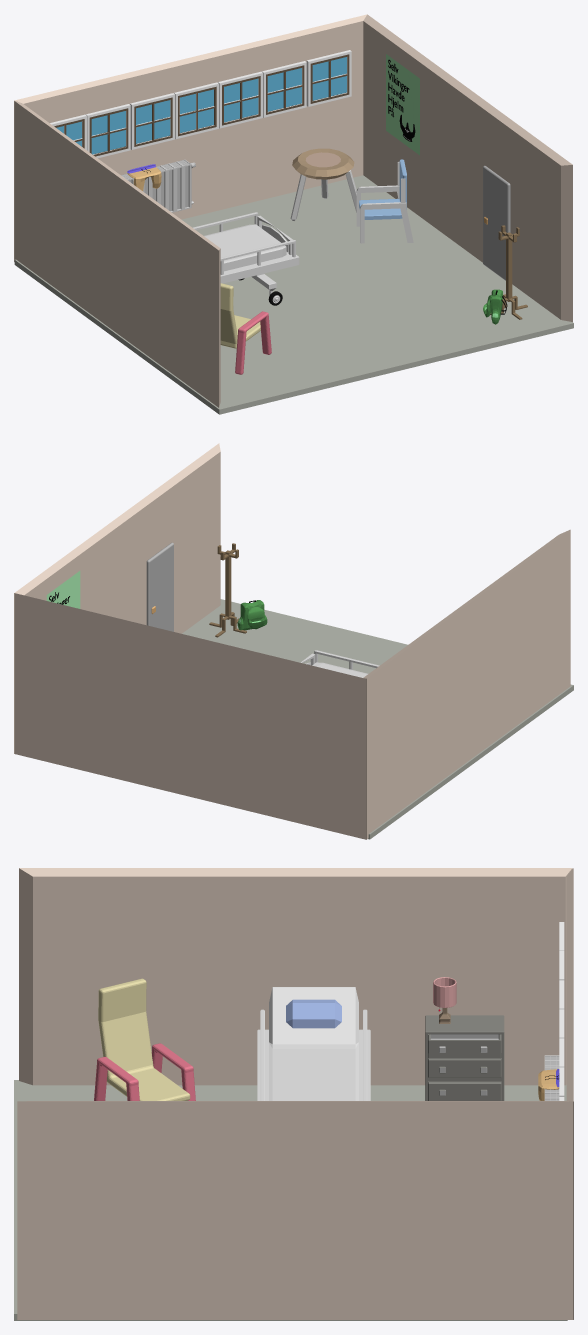
Rendered from hospitalWMaterial.fbx.
The picture shows the model from 3 angles, top to bottom: view 1: azimuth 30°, elevation 25°; view 2: azimuth 150°, elevation 25°; view 3: azimuth 270°, elevation 25°; orthographic projection. The views are drawn at different scales.
Parts seen in each view (by area): view 1: Plane.001, Plane, Cube.016, Cube, Plane.002, Cube.004, Cube.006, Cube.002, Cube.003, Cylinder.001, Cube.013, Cube.012 (+3 smaller); view 2: Plane.001, Plane, Cube, Cube.012, Plane.002, Cube.015; view 3: Plane.001, Cube.006, Cube.004, Cube.005, Plane, Cube.003, Cube.008, Cube.016, Cube.017.
Boxes of the visible parts, box(x1,y1,x2,y2) form: Plane.001: box(14, 14, 572, 407); Plane: box(14, 175, 573, 414); Cube.016: box(50, 50, 351, 158); Cube: box(483, 165, 510, 280); Plane.002: box(386, 54, 419, 155); Cube.004: box(220, 283, 271, 374); Cube.006: box(204, 224, 286, 271); Cube.002: box(121, 159, 191, 212); Cube.003: box(193, 212, 299, 283); Cylinder.001: box(292, 148, 354, 179); Cube.013: box(356, 161, 413, 243); Cube.012: box(490, 225, 527, 319); Plane.001: box(14, 443, 570, 839); Plane: box(182, 599, 573, 839); Cube: box(146, 542, 173, 631); Cube.012: box(209, 543, 246, 637); Plane.002: box(46, 571, 80, 608); Cube.015: box(237, 600, 267, 630); Plane.001: box(17, 868, 573, 1319); Cube.006: box(269, 987, 358, 1100); Cube.004: box(94, 978, 195, 1100); Cube.005: box(425, 1015, 504, 1100); Plane: box(14, 1080, 567, 1320); Cube.003: box(257, 1009, 370, 1100); Cube.008: box(286, 999, 341, 1028); Cube.016: box(559, 922, 564, 1100); Cube.017: box(433, 977, 456, 1023).
Size of the model in its own units: 1644 by 719 by 1660.
